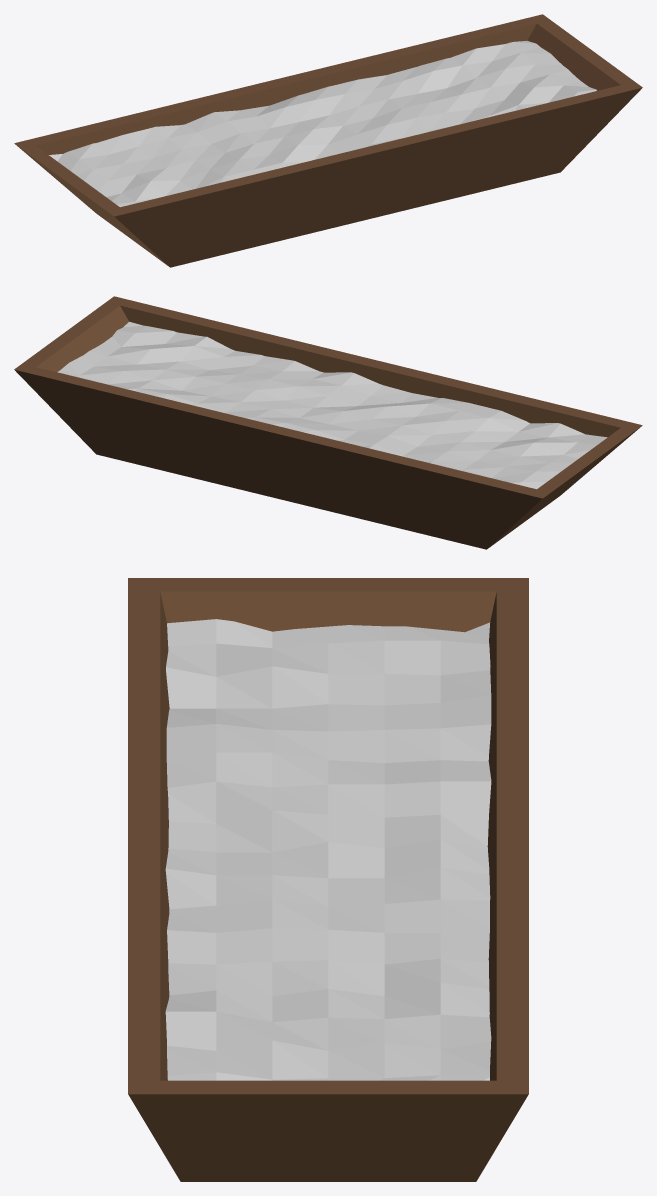
The model's file is Horse_tray_2_snow_mat.fbx.
3 renders of one model, top to bottom at view 1: azimuth 30°, elevation 25°; view 2: azimuth 150°, elevation 25°; view 3: azimuth 270°, elevation 25°, orthographic. The views are drawn at different scales.
Visible parts, largest first — view 1: Horse_tray_2_snow_mat; view 2: Horse_tray_2_snow_mat; view 3: Horse_tray_2_snow_mat.
Part boxes in pixels (left/top/right/bottom): Horse_tray_2_snow_mat: left=14, top=14, right=642, bottom=267; Horse_tray_2_snow_mat: left=14, top=296, right=642, bottom=549; Horse_tray_2_snow_mat: left=128, top=578, right=528, bottom=1181.
Size of the model in its own units: 171 by 24.03 by 56.21.
